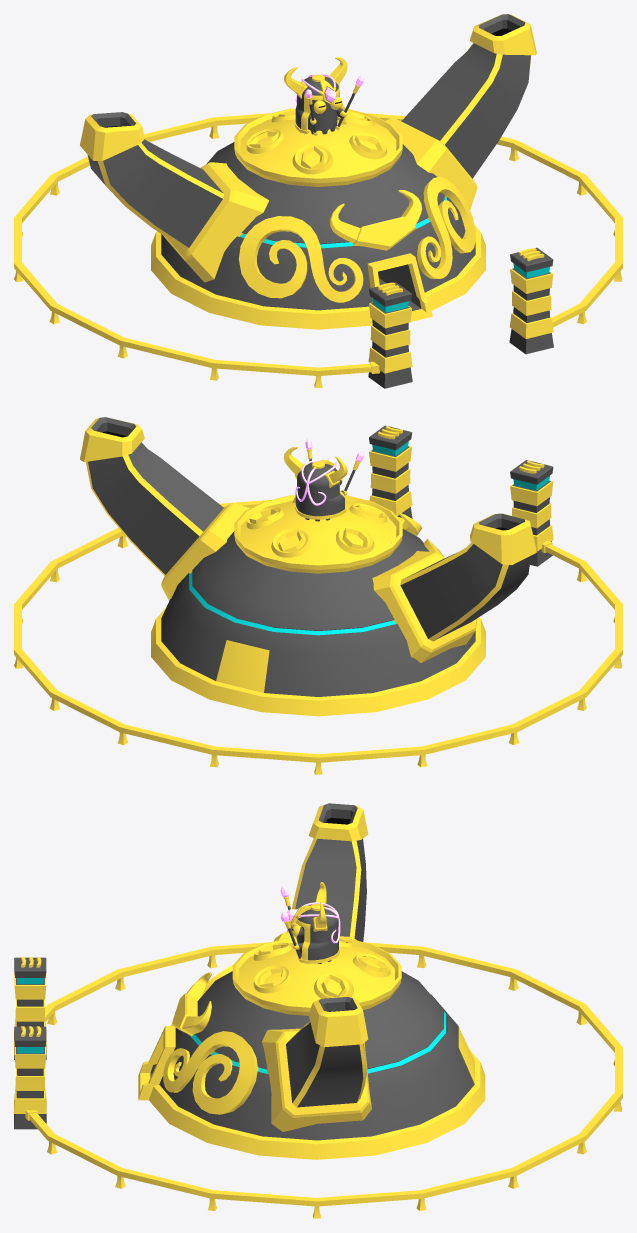
File: mage_chamber_alpha.fbx
3 renders of one model, top to bottom at view 1: azimuth 30°, elevation 25°; view 2: azimuth 150°, elevation 25°; view 3: azimuth 270°, elevation 25°, orthographic.
Parts seen in each view (by area): view 1: mage_chamber_alpha, hornexhausts, emblems, fence, posts_ALPHA, gotchi_aadept, deets, horns, body; view 2: mage_chamber_alpha, hornexhausts, fence, posts_ALPHA, emblems, gotchi_aadept, horns; view 3: mage_chamber_alpha, hornexhausts, fence, emblems, posts_ALPHA, gotchi_aadept.
Boxes of the visible parts, box(x1,y1,x2,y2) form: mage_chamber_alpha: box(151, 119, 485, 329); hornexhausts: box(80, 14, 536, 282); emblems: box(234, 108, 475, 302); fence: box(14, 113, 622, 388); posts_ALPHA: box(368, 247, 553, 388); gotchi_aadept: box(294, 74, 346, 134); deets: box(307, 84, 360, 135); horns: box(284, 57, 347, 98); body: box(308, 96, 337, 134); mage_chamber_alpha: box(151, 500, 485, 716); hornexhausts: box(80, 417, 536, 662); fence: box(14, 500, 622, 774); posts_ALPHA: box(369, 425, 553, 566); emblems: box(234, 495, 443, 569); gotchi_aadept: box(294, 459, 346, 519); horns: box(284, 447, 347, 487); mage_chamber_alpha: box(138, 942, 485, 1159); hornexhausts: box(262, 803, 371, 1131); fence: box(25, 942, 622, 1218); emblems: box(163, 937, 401, 1114); posts_ALPHA: box(14, 957, 46, 1129); gotchi_aadept: box(292, 903, 339, 963).
Bounding box in the file's own units: 22.76 × 7.89 × 22.31.
